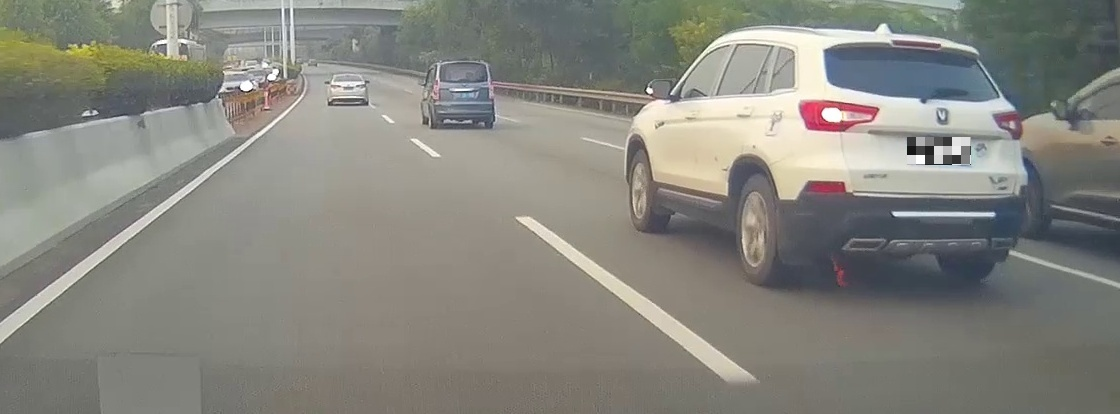L_light: (798, 99, 880, 132), (433, 79, 439, 100), (331, 85, 341, 88)
R_light: (993, 110, 1023, 140), (488, 81, 494, 99), (356, 84, 366, 88)
T_light: (892, 40, 942, 50), (459, 79, 469, 82), (345, 75, 352, 77)
day-left: (791, 32, 1032, 284)
day-no: (430, 61, 495, 128), (326, 73, 368, 106)
plate_1: (907, 137, 971, 165)
